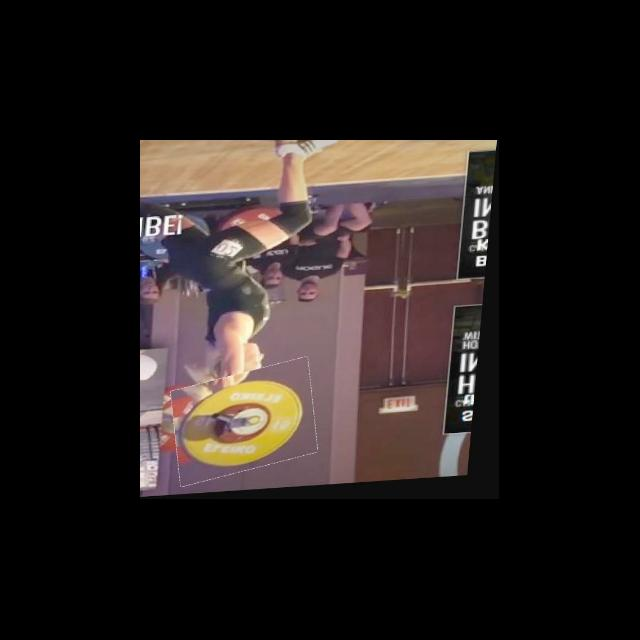barbell: (173, 364, 326, 482)
